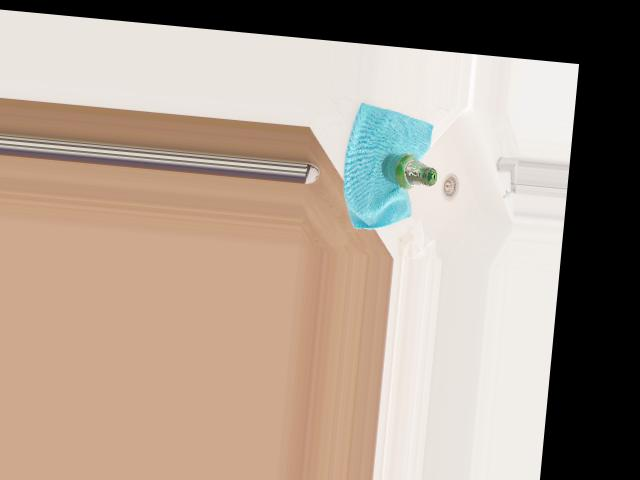beer: (379, 152, 438, 191)
